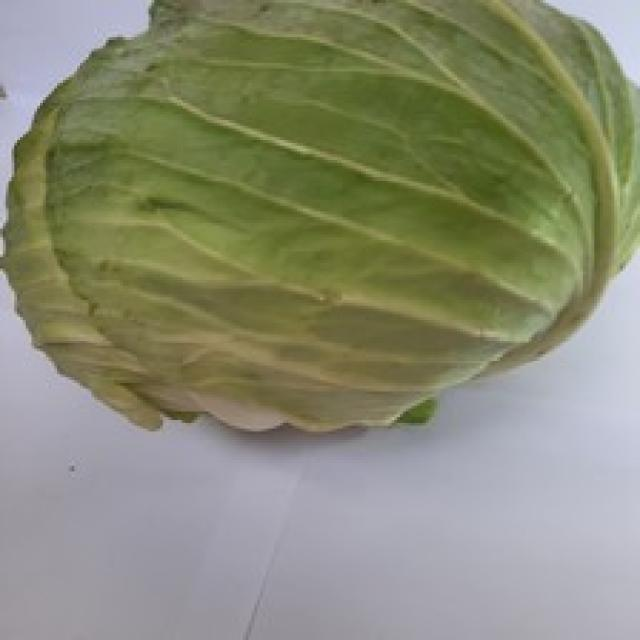Cabbage: (0, 0, 637, 434)
